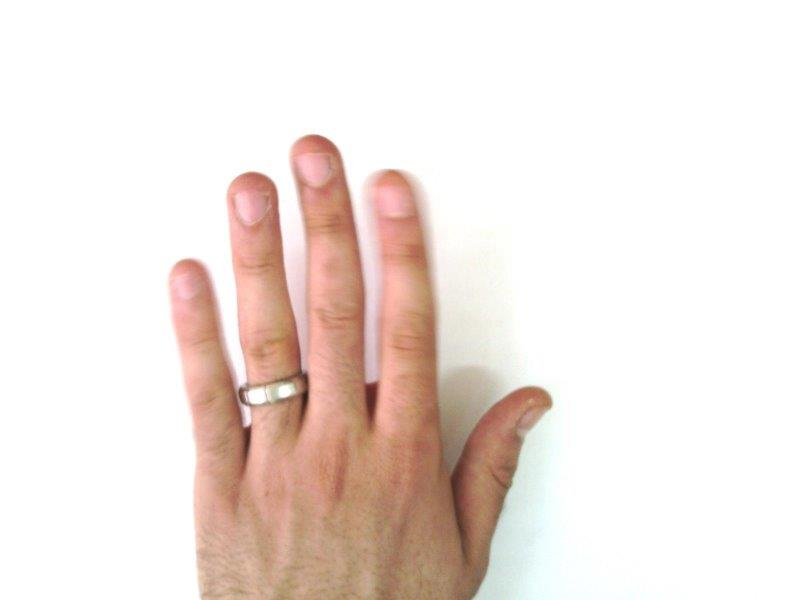hand: (167, 136, 553, 600)
